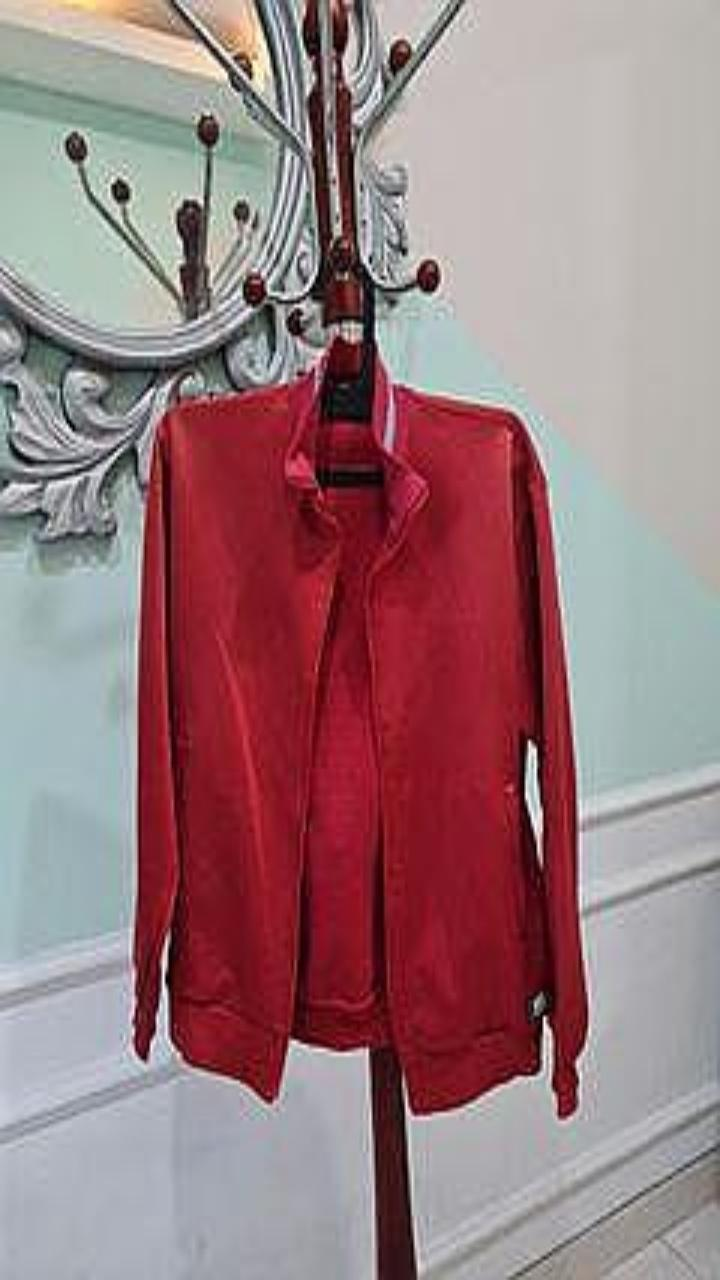Sports_Jacket: (133, 354, 587, 1116)
